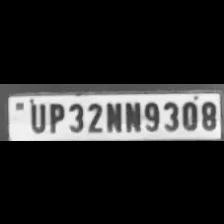0: (179, 98, 197, 130)
2: (85, 100, 103, 132)
3: (65, 100, 84, 132), (161, 98, 179, 130)
8: (198, 98, 216, 130)
9: (142, 98, 160, 130)
N: (102, 99, 122, 131), (123, 98, 141, 132)
P: (46, 100, 64, 132)
U: (26, 100, 46, 132)
